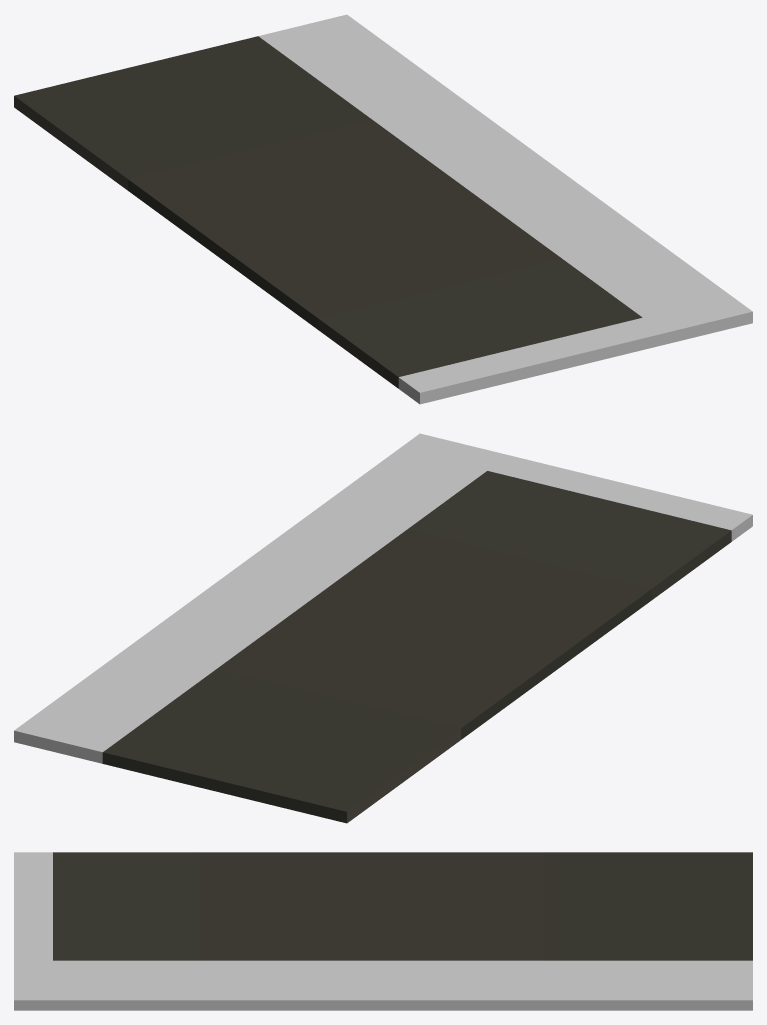
Rendered from Bldg_mobbil02site_a.fbx.
The picture shows the model from 3 angles, top to bottom: view 1: azimuth 30°, elevation 25°; view 2: azimuth 150°, elevation 25°; view 3: azimuth 270°, elevation 25°; orthographic projection. The views are drawn at different scales.
Parts seen in each view (by area): view 1: Bldg_mobbil02site_a; view 2: Bldg_mobbil02site_a; view 3: Bldg_mobbil02site_a.
Part boxes in pixels (<box>): Bldg_mobbil02site_a: <box>14,14,752,404</box>; Bldg_mobbil02site_a: <box>14,433,752,823</box>; Bldg_mobbil02site_a: <box>14,852,752,1010</box>.
Size of the model in its own units: 9 by 0.3 by 19.
